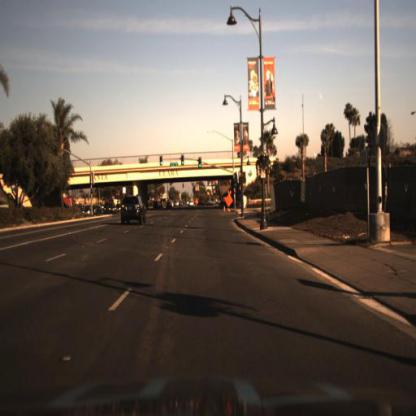car: (119, 192, 147, 229), (106, 198, 119, 220)
trafficLight-Green: (197, 156, 205, 176), (157, 155, 164, 171), (197, 156, 204, 172), (178, 154, 186, 167), (160, 155, 165, 171), (181, 154, 187, 167)
